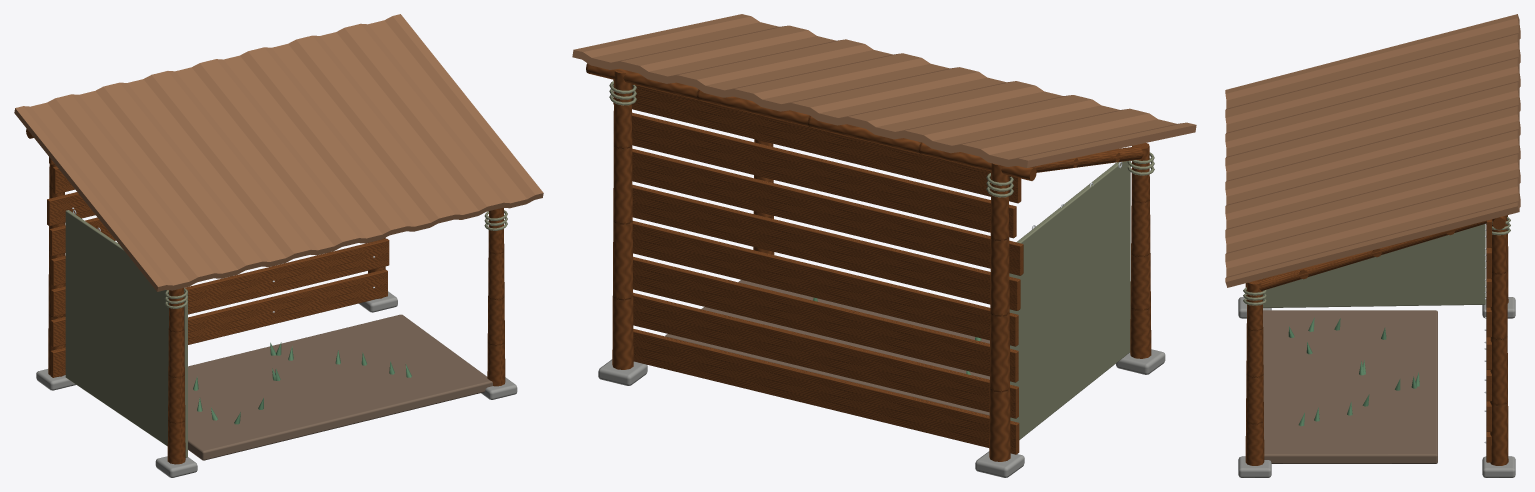
File: fps-survival-forest-outpost-lean-to-shelter-97e59032__32619.glb
3 views of the same model, side by side, from view 1: azimuth 30°, elevation 25°; view 2: azimuth 150°, elevation 25°; view 3: azimuth 270°, elevation 25° (orthographic). The views are drawn at different scales.
Parts seen in each view (by area): view 1: lean-to-shelter; view 2: lean-to-shelter; view 3: lean-to-shelter.
Boxes of the visible parts, x1,y1,x2,y2 form: lean-to-shelter: (14, 14, 543, 477); lean-to-shelter: (572, 14, 1196, 477); lean-to-shelter: (1225, 14, 1520, 477).
Bounding box in the file's own units: 4.1 × 2.81 × 2.66.
Materials: 7 (2 with a texture image).
